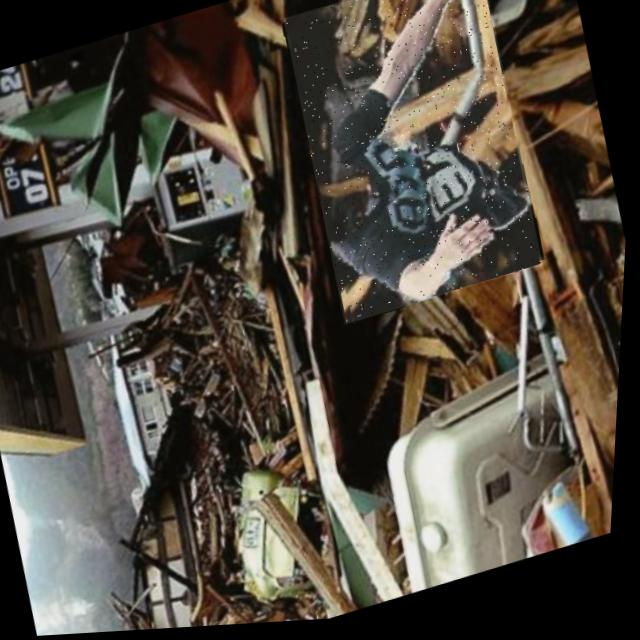Person in Rubble: (271, 0, 557, 331)
